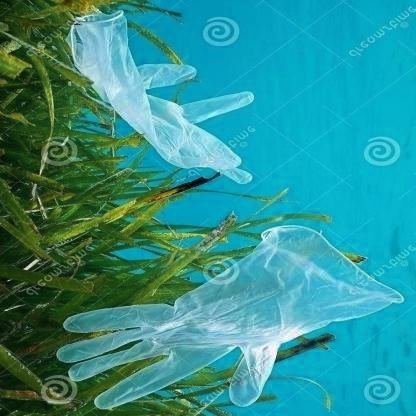glove: (52, 232, 405, 416), (62, 10, 261, 188)
